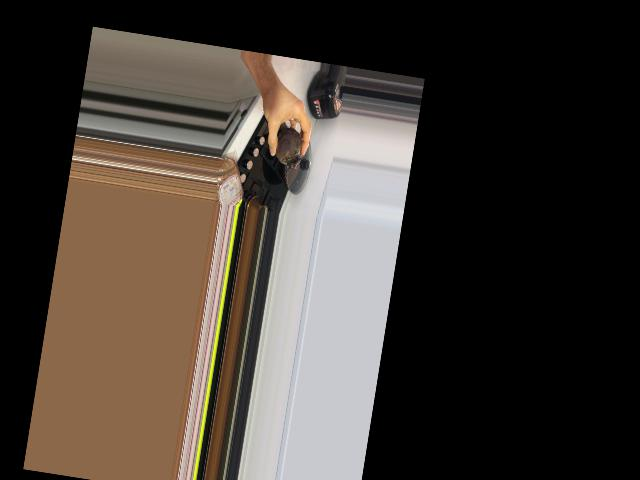beet: (273, 124, 304, 170)
